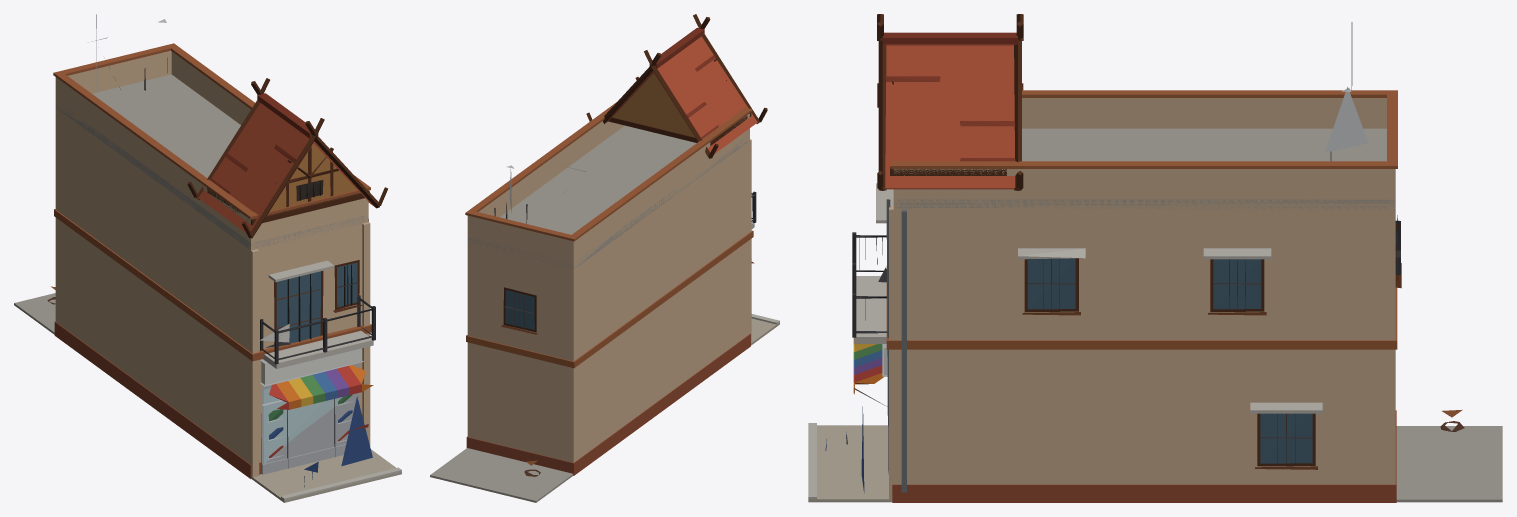
Rendered from bay1_right.glb.
3 views of the same model, side by side, from view 1: azimuth 30°, elevation 25°; view 2: azimuth 150°, elevation 25°; view 3: azimuth 270°, elevation 25° (orthographic). The views are drawn at different scales.
Parts seen in each view (by area): view 1: body, windows; view 2: body, windows; view 3: body, windows.
Part boxes in pixels (x1,y1,x2,y2): body: (14, 14, 401, 502); windows: (276, 180, 357, 346); body: (430, 14, 779, 502); windows: (505, 290, 534, 329); body: (808, 14, 1502, 502); windows: (1027, 218, 1397, 463).
Bounding box in the file's own units: 4.98 × 11.43 × 15.9.
